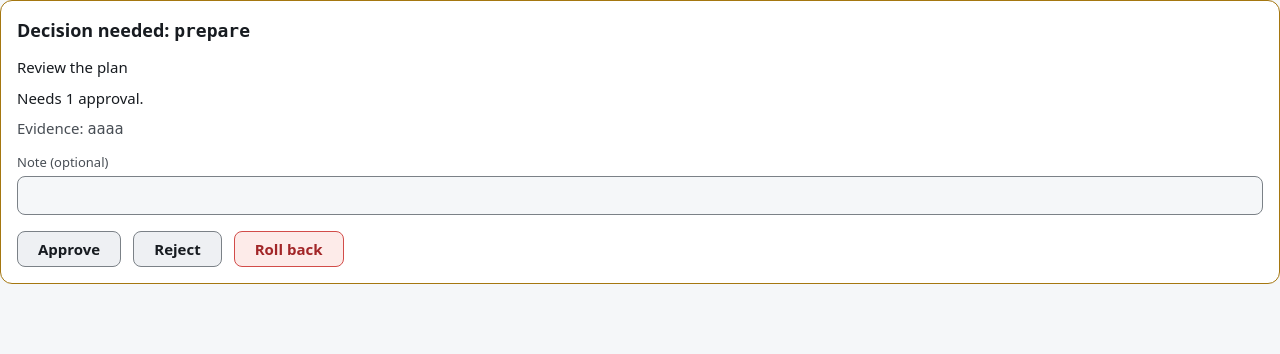
Test: GateCard › keeps the card and says the evidence changed on a 409
Click the button "Approve": (69, 249) [17, 231, 121, 267]
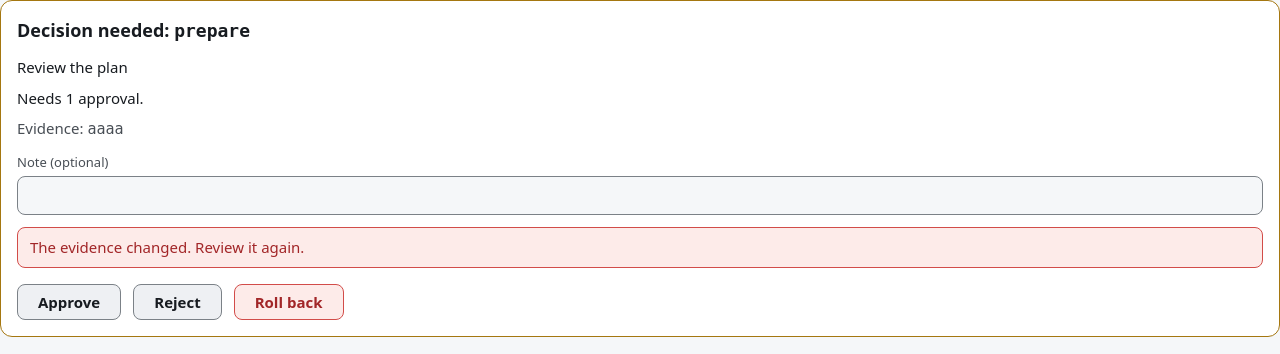
Expected: the button "Approve" is shown, [17, 284, 121, 320]
Expected: the message reads "The evidence changed. Review it again.", [30, 237, 304, 257]
